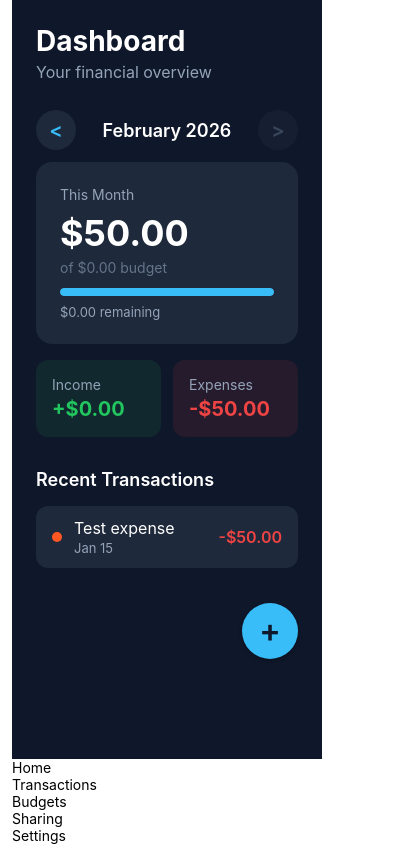
MainTabNavigator › navigates to transactions tab
Click the text "Transactions": (54, 784) left=12, top=776, right=97, bottom=793
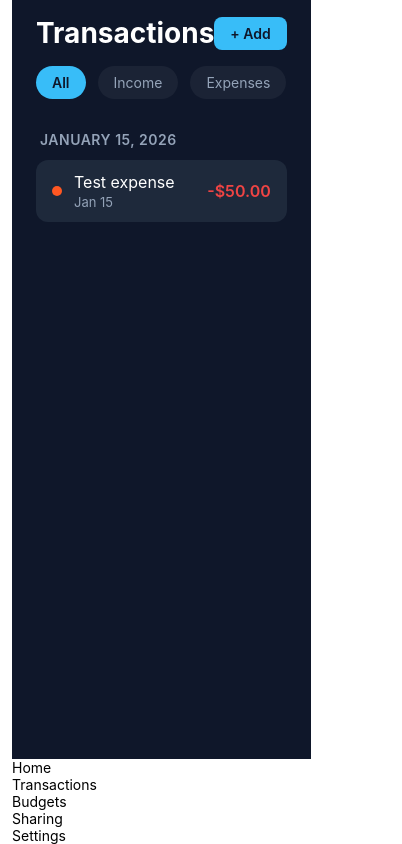
Expected: the text "+ Add" is shown, left=230, top=24, right=271, bottom=42
Expected: the text "All" is shown, left=52, top=74, right=70, bottom=91
